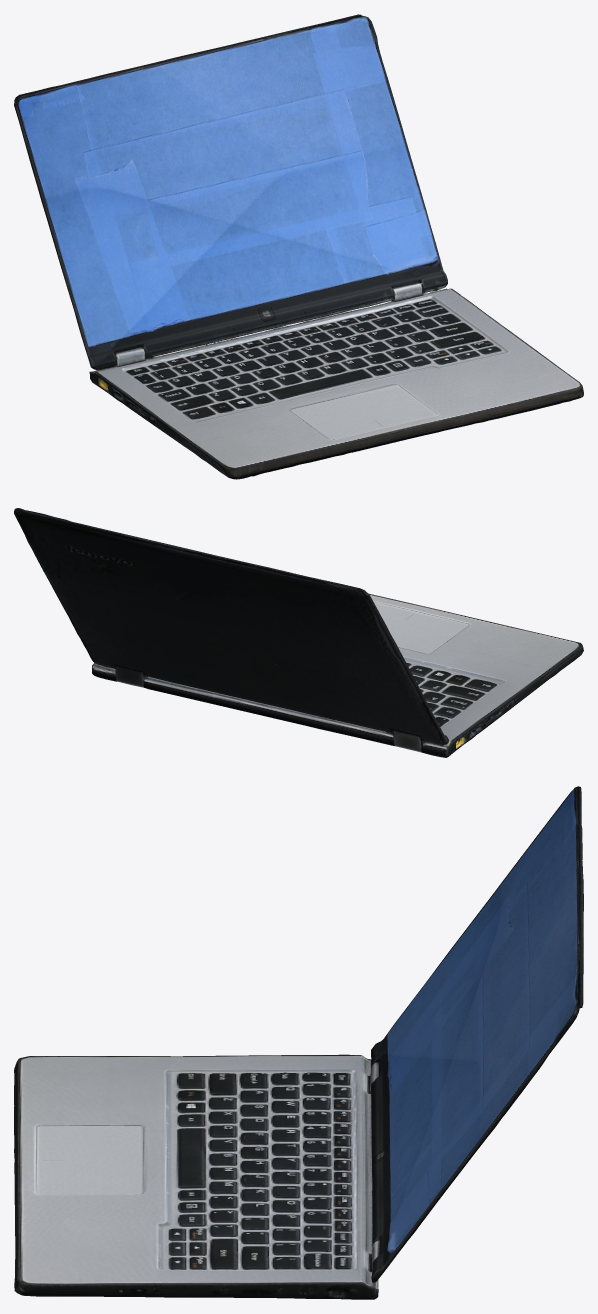
The model's file is Lenovo_Yoga_2_11.glb.
3 views of the same model, one above another, from view 1: azimuth 30°, elevation 25°; view 2: azimuth 150°, elevation 25°; view 3: azimuth 270°, elevation 25° (orthographic). The views are drawn at different scales.
Visible parts, largest first — view 1: Lenovo_Yoga_2_11; view 2: Lenovo_Yoga_2_11; view 3: Lenovo_Yoga_2_11.
Boxes of the visible parts, x1,y1,x2,y2 form: Lenovo_Yoga_2_11: (14,14,583,479); Lenovo_Yoga_2_11: (14,508,583,757); Lenovo_Yoga_2_11: (14,786,583,1299).
Bounding box in the file's own units: 0.2995 × 0.1854 × 0.3199.
Materials: 1 (1 with a texture image).
